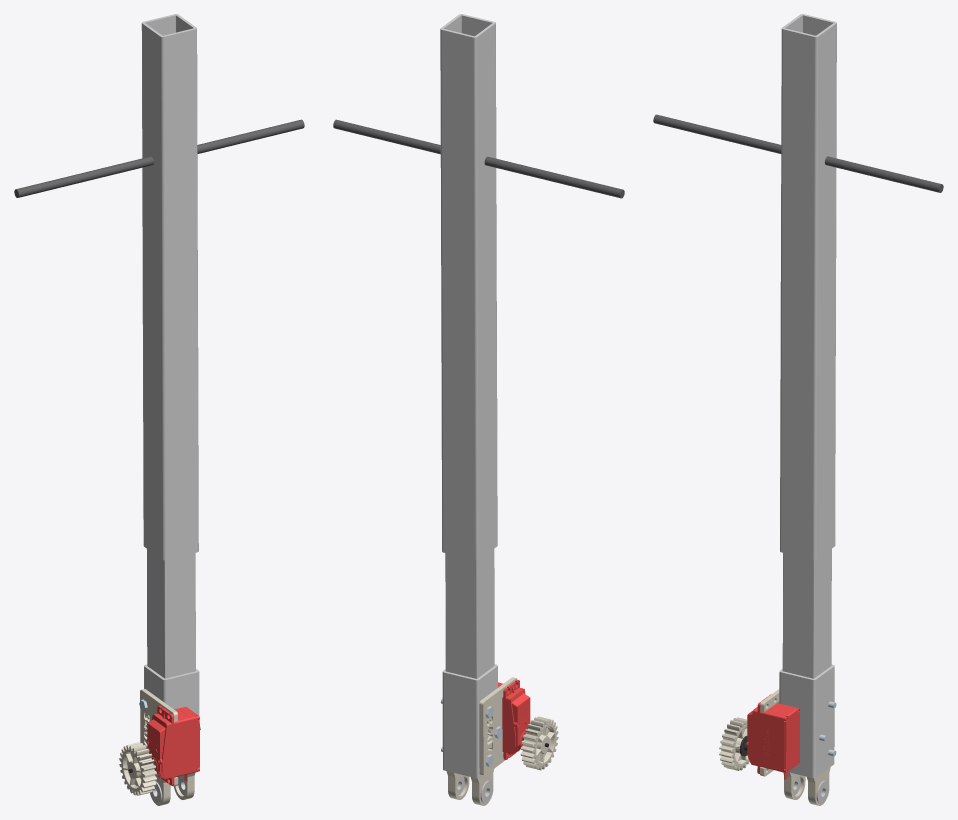
The model's file is Robot_Jimmeh V4_0.glb.
The picture shows the model from 3 angles, left to right: view 1: azimuth 30°, elevation 25°; view 2: azimuth 150°, elevation 25°; view 3: azimuth 330°, elevation 25°; orthographic projection.
Parts seen in each view (by area): view 1: Arm Upper, Arm V1 Lower, DSSERVO_150kg_80kg_60kg, Arm Pivot Rod, Arm End, Input Wrist Gear, Servo Mount Plate, Wrist Frame; view 2: Arm Upper, Arm V1 Lower, Arm End, Arm Pivot Rod, Servo Mount Plate, DSSERVO_150kg_80kg_60kg, Input Wrist Gear, Wrist Frame; view 3: Arm Upper, Arm V1 Lower, Arm End, DSSERVO_150kg_80kg_60kg, Arm Pivot Rod, Input Wrist Gear, Wrist Frame.
Part boxes in pixels (x1,y1,x2,y2): Arm Upper: [141, 14, 198, 560]; Arm V1 Lower: [147, 549, 195, 678]; DSSERVO_150kg_80kg_60kg: [146, 705, 199, 785]; Arm Pivot Rod: [14, 119, 304, 197]; Arm End: [144, 664, 199, 715]; Input Wrist Gear: [119, 742, 156, 795]; Servo Mount Plate: [140, 689, 178, 786]; Wrist Frame: [153, 772, 195, 805]; Arm Upper: [440, 14, 497, 560]; Arm V1 Lower: [445, 549, 494, 678]; Arm End: [442, 664, 497, 778]; Arm Pivot Rod: [333, 119, 624, 198]; Servo Mount Plate: [479, 677, 517, 775]; DSSERVO_150kg_80kg_60kg: [498, 680, 530, 759]; Input Wrist Gear: [520, 716, 558, 770]; Wrist Frame: [446, 769, 493, 805]; Arm Upper: [780, 14, 836, 560]; Arm V1 Lower: [782, 549, 831, 678]; Arm End: [779, 664, 834, 777]; DSSERVO_150kg_80kg_60kg: [746, 694, 799, 779]; Arm Pivot Rod: [653, 114, 943, 192]; Input Wrist Gear: [719, 717, 749, 770]; Wrist Frame: [783, 767, 830, 805].
Bounding box in the file's own units: 0.3493 × 0.9041 × 0.092.
